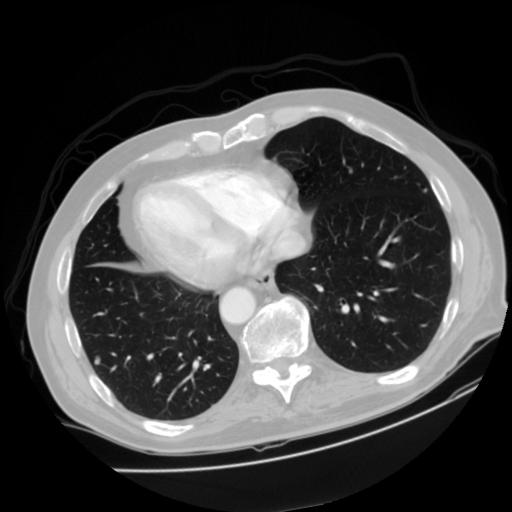nodule: (93, 352, 107, 366)
